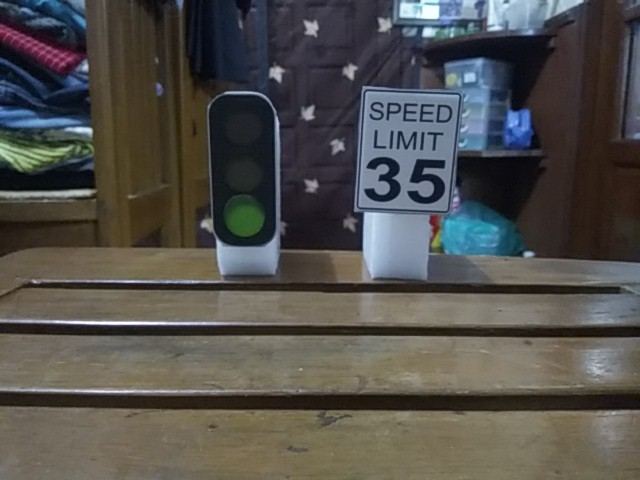Green Traffic Light: (207, 92, 279, 247)
Speed Limit 35: (355, 88, 462, 215)
